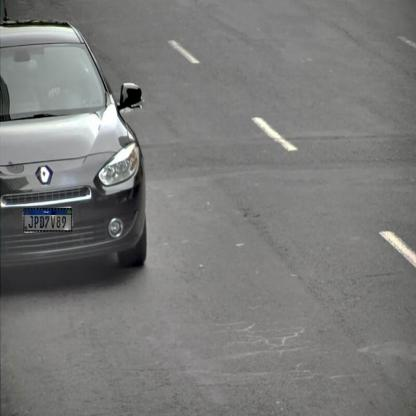PlacaM: (24, 208, 72, 232)
